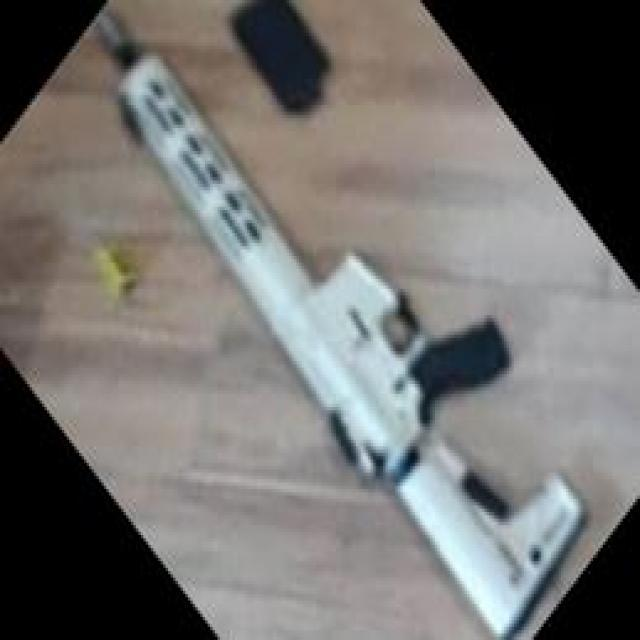weapon: (92, 7, 590, 640)
